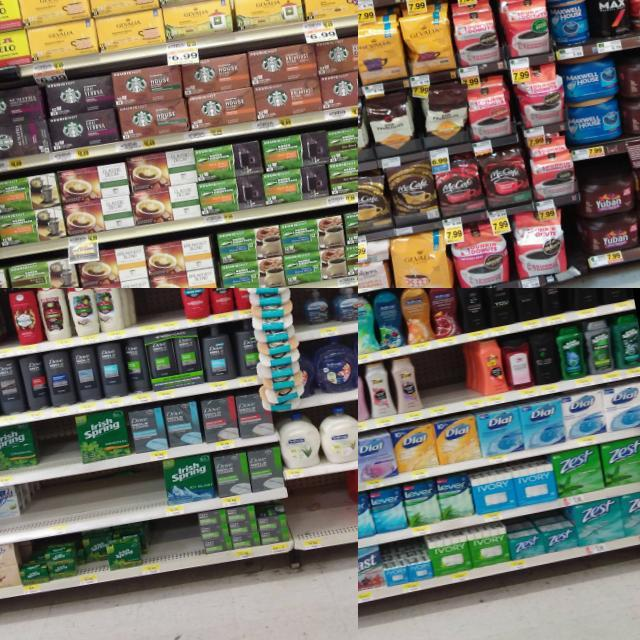void: (38, 460, 166, 535), (286, 468, 357, 550), (413, 347, 469, 418), (148, 512, 206, 573), (34, 415, 83, 479), (128, 287, 159, 335), (152, 288, 184, 331), (0, 291, 16, 359)
